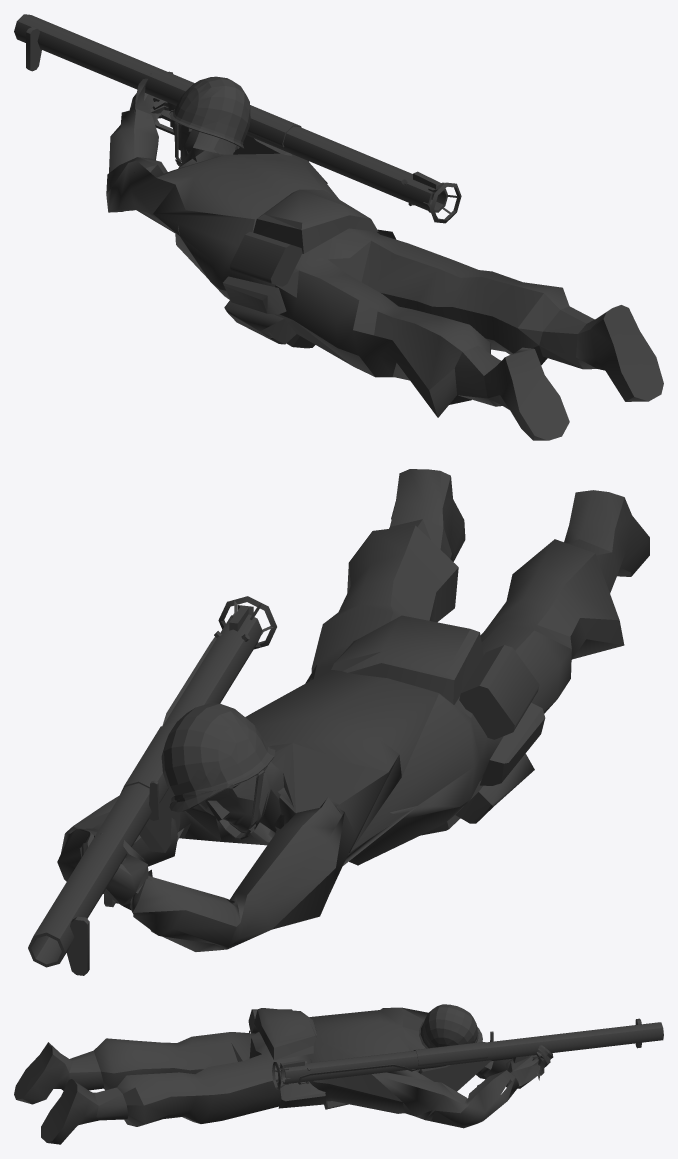
File: us_bazooka_prono.glb
3 views of the same model, one above another, from view 1: azimuth 30°, elevation 25°; view 2: azimuth 150°, elevation 25°; view 3: azimuth 270°, elevation 25° (orthographic). The views are drawn at different scales.
Visible parts, largest first — view 1: Object.004_Object.017_2; view 2: Object.004_Object.017_2; view 3: Object.004_Object.017_2.
Boxes of the visible parts, x1,y1,x2,y2 form: Object.004_Object.017_2: [14, 14, 663, 440]; Object.004_Object.017_2: [28, 469, 649, 975]; Object.004_Object.017_2: [14, 1004, 663, 1144].
Size of the model in its own units: 0.2282 by 0.1331 by 0.7342.
1 material, 1 textured.
